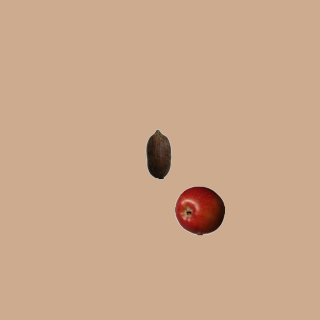Apple Braeburn: (174, 185, 224, 235)
Nut Pecan: (133, 128, 183, 178)
